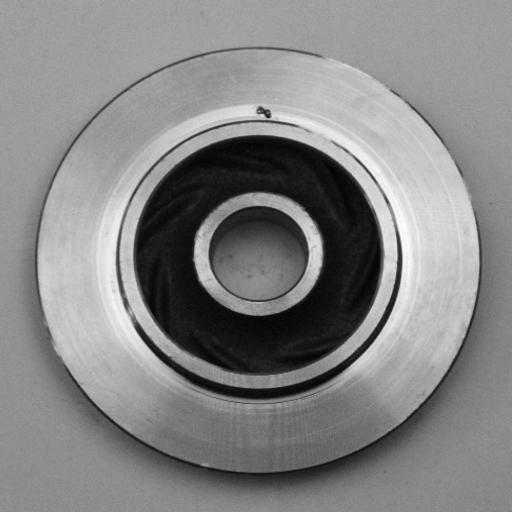crack: (244, 101, 285, 126)
unpolished_casting: (35, 44, 483, 479)
